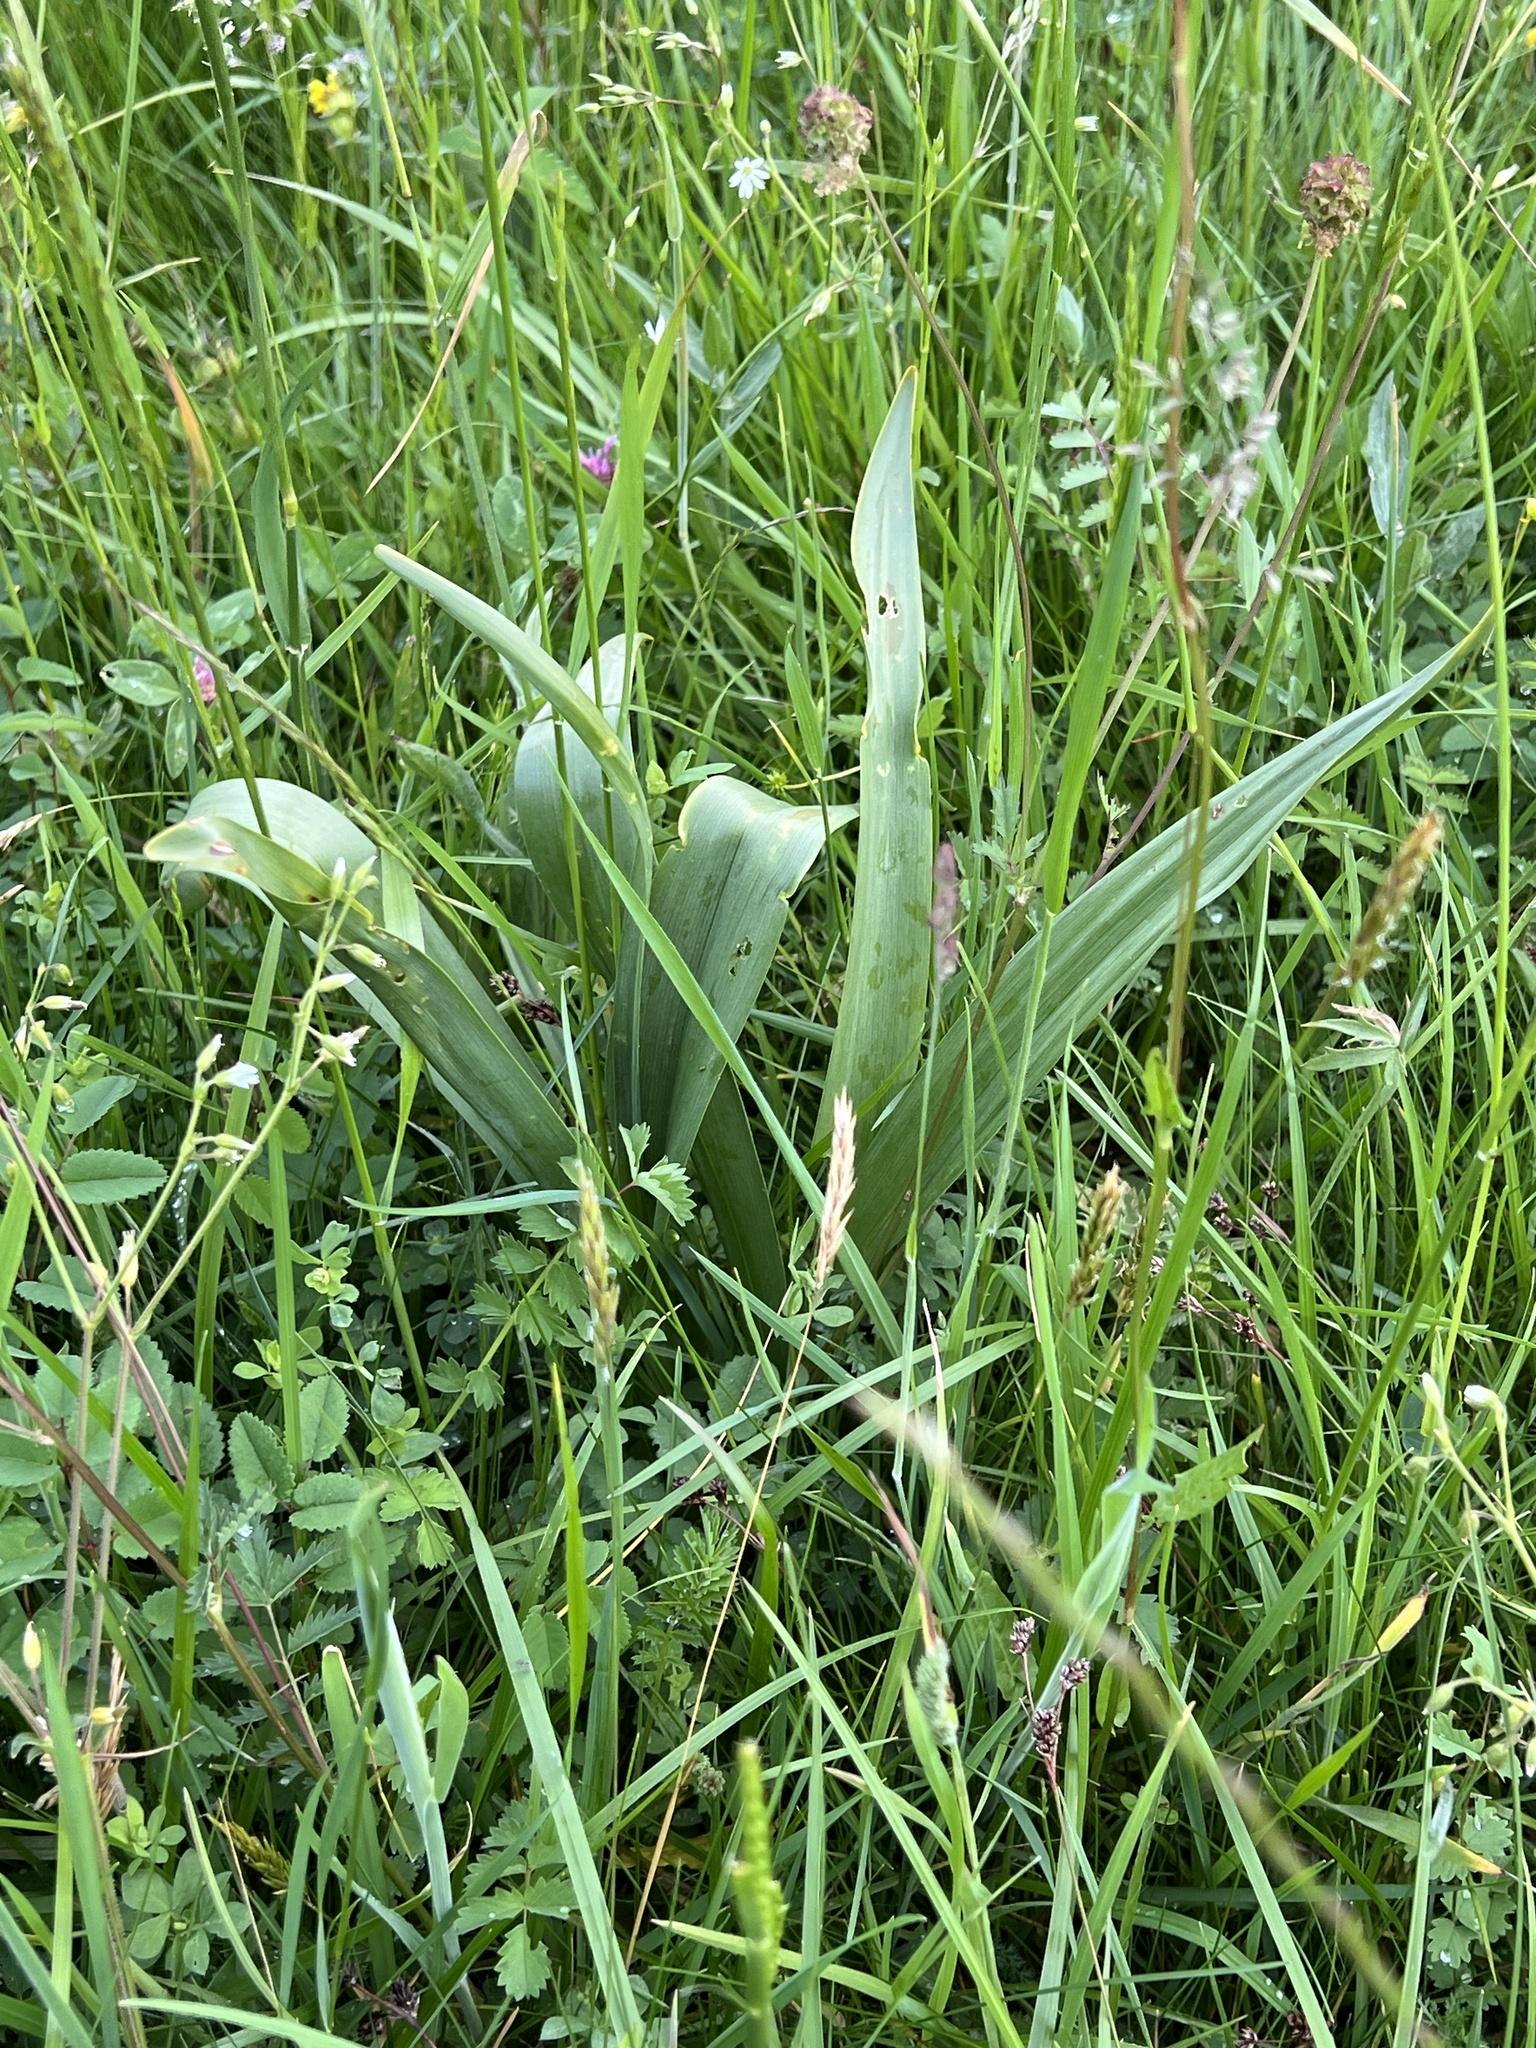Colchicum autumnale L: (145, 369, 1512, 1382)
